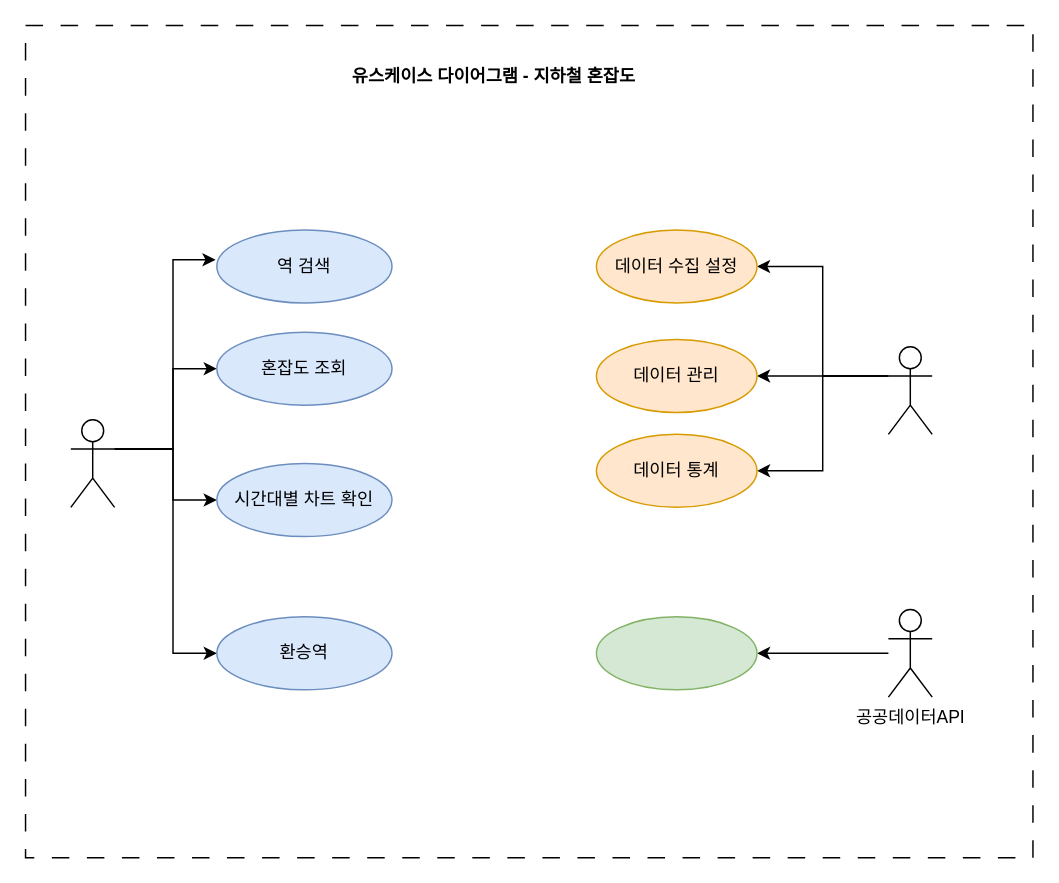
This 1059x883 diagram has some shape labels left out. Each missing label, with the box of its shape:
관리자: (887, 345, 932, 434)
시민: (69, 418, 115, 507)
실시간 데이터 제공: (595, 615, 757, 690)
